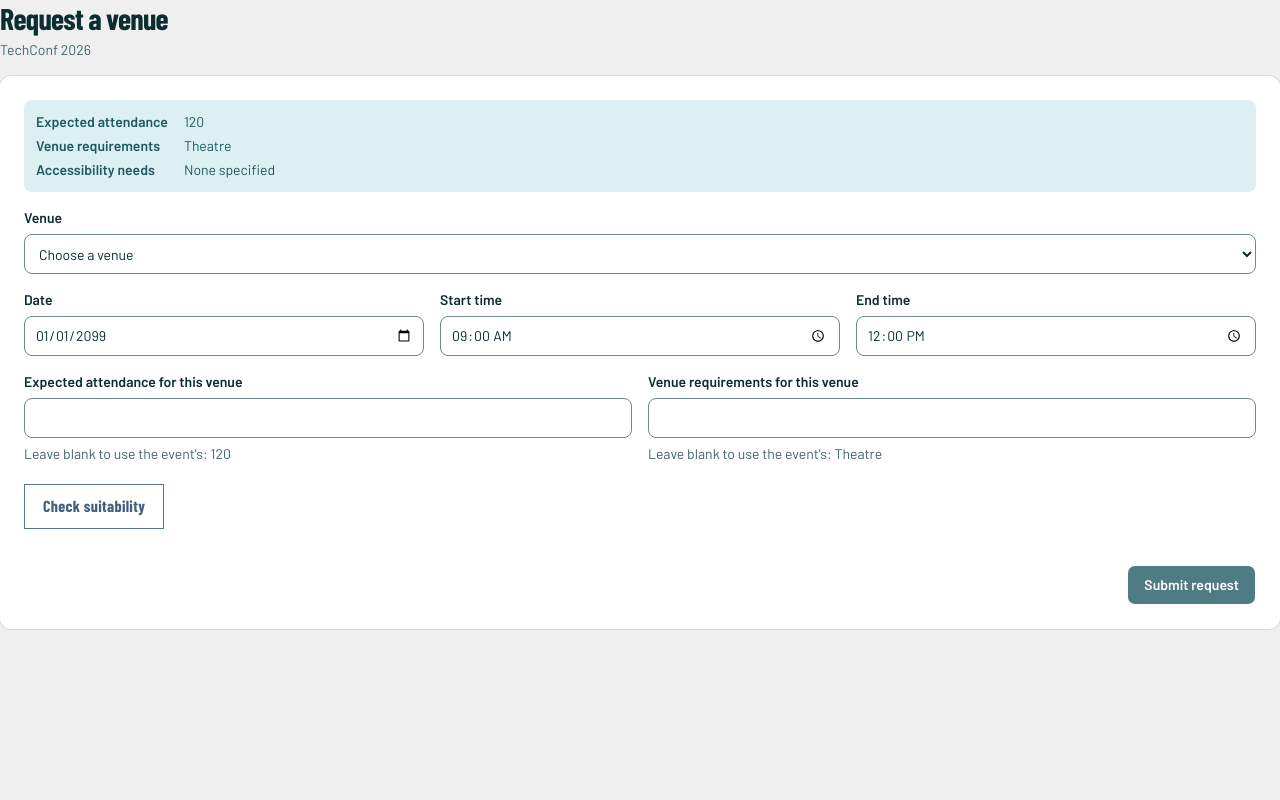
it: SCRUM-110/AC1-AC3 the request form (110-S1, 110-S2, 110-S3, 110-S5) › 110-S3: Cancel closes the warning, returns to the form and creates nothing
Select "Lotus Room (capacity 60)" in the dropdown labelled "Venue": (640, 254) [24,234,1256,274]
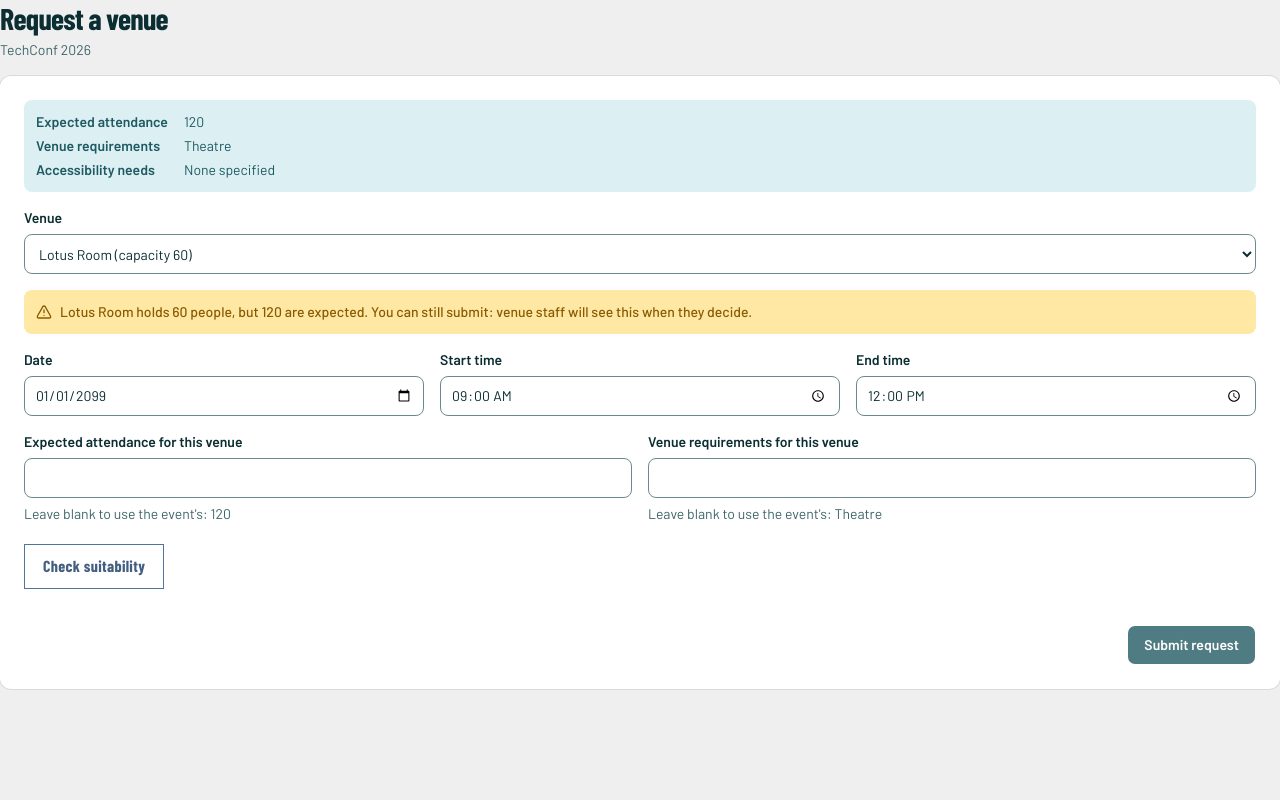
Click the button "Submit request": (1192, 645) [1127,625,1256,665]
(page scrolled)
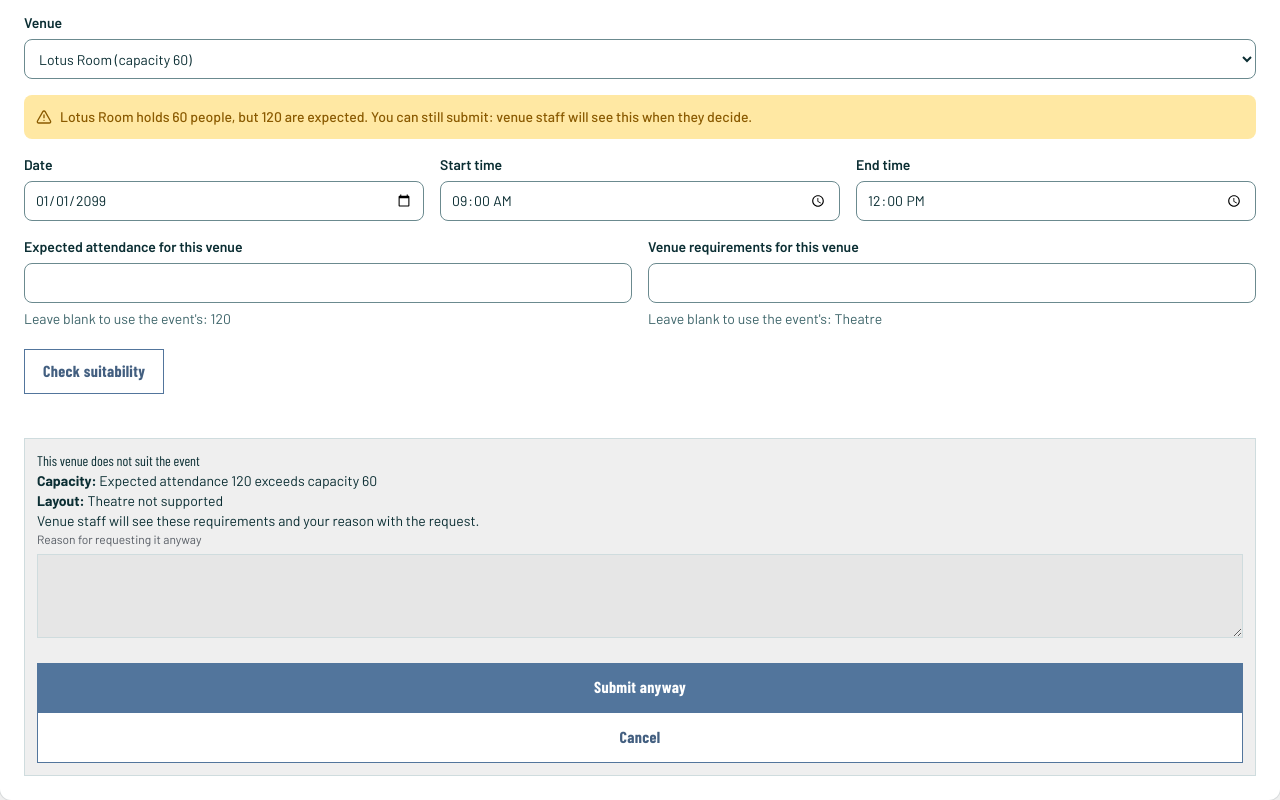
Expected: the dialog is shown, [24,438,1256,776]
Click the button "Cancel": (640, 737) [37,712,1243,763]
(page scrolled)
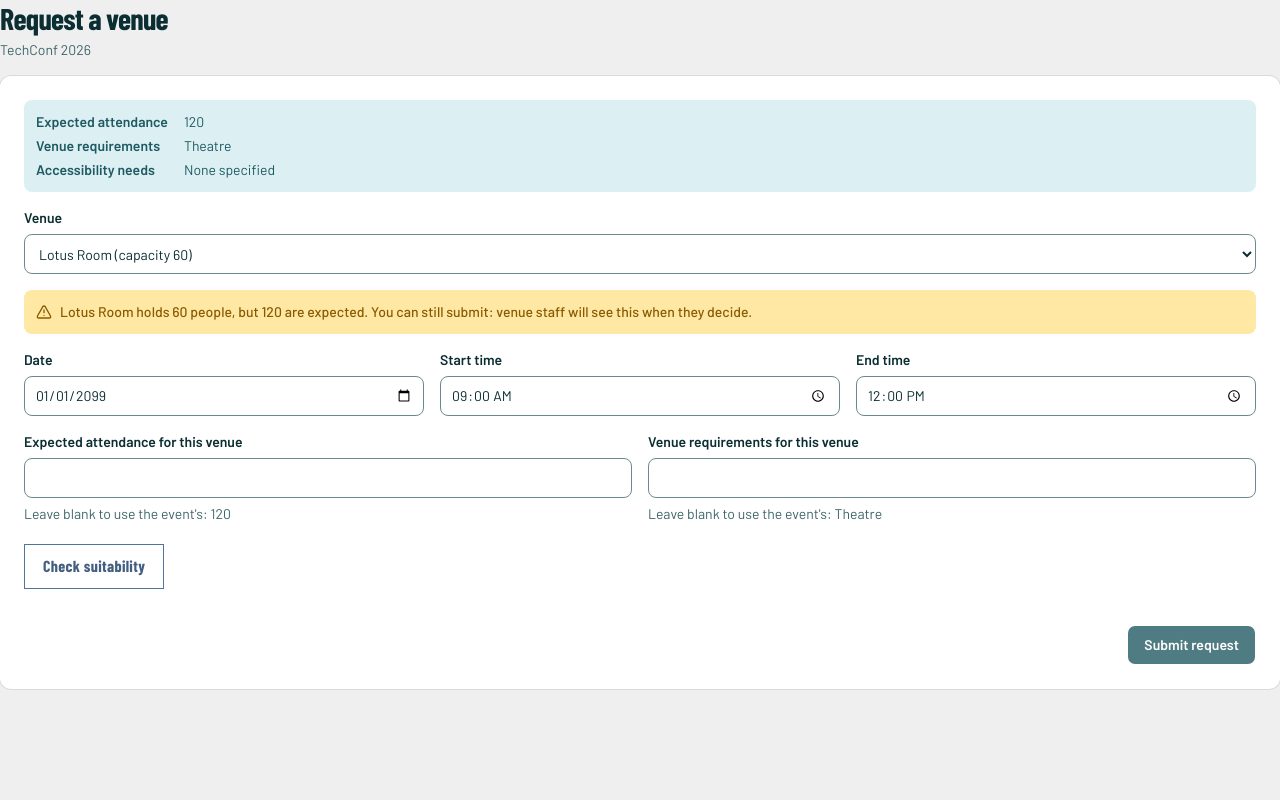
Expected: the dialog is gone
Expected: the button "Submit request" is shown, [1127,625,1256,665]
